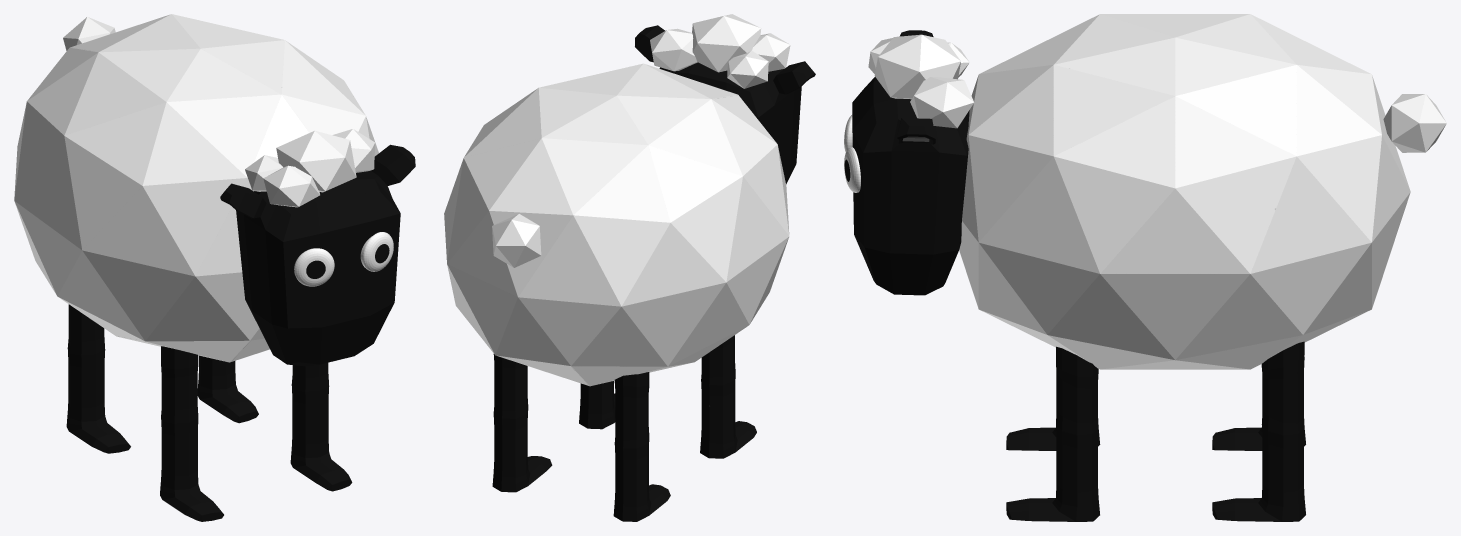
Rendered from sheep01.obj.
3 renders of one model, left to right at view 1: azimuth 30°, elevation 25°; view 2: azimuth 150°, elevation 25°; view 3: azimuth 270°, elevation 25°, orthographic. The views are drawn at different scales.
Visible parts, largest first — view 1: Icosphere.002; view 2: Icosphere.002; view 3: Icosphere.002.
Boxes of the visible parts, bbox=[...] form: Icosphere.002: bbox=[14, 14, 415, 521]; Icosphere.002: bbox=[444, 14, 815, 521]; Icosphere.002: bbox=[844, 14, 1446, 521].
Bounding box in the file's own units: 0.7929 × 1 × 1.23.
1 material, 1 textured.
